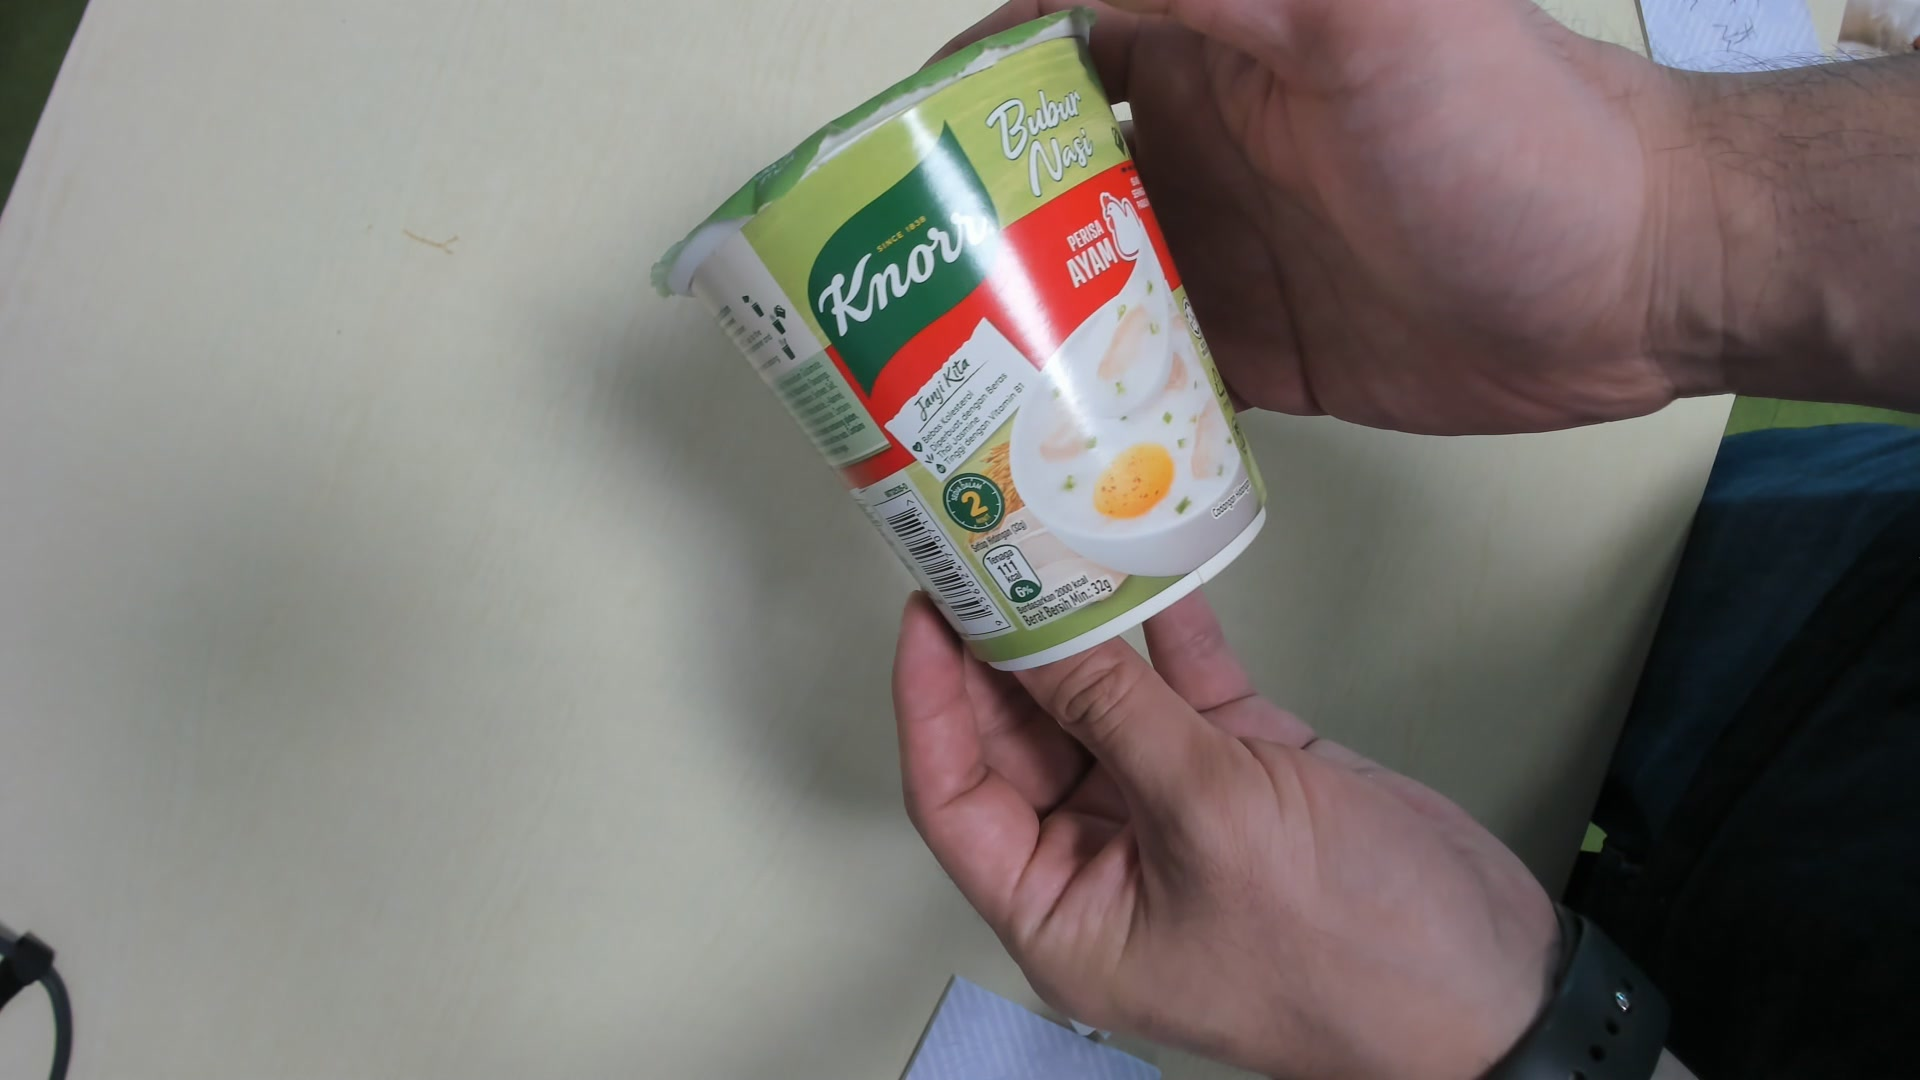InstantMeals_100-199g_Halal_NonHealthy: (642, 3, 1269, 669)
